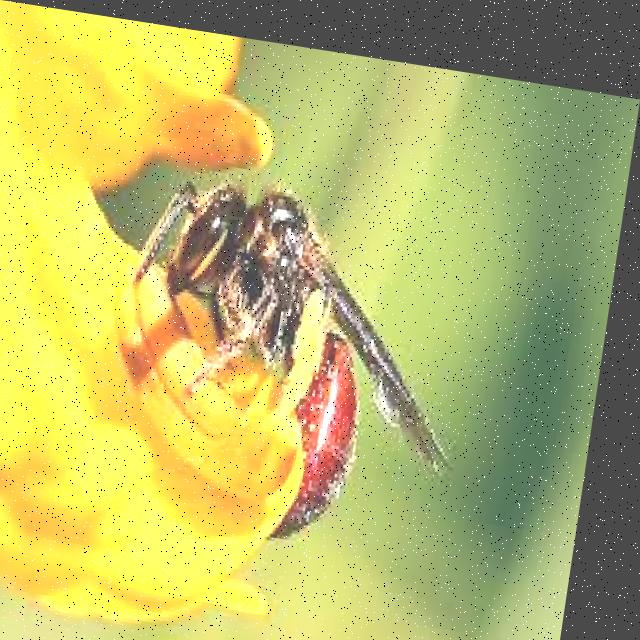Allodapula: (100, 129, 506, 581)
